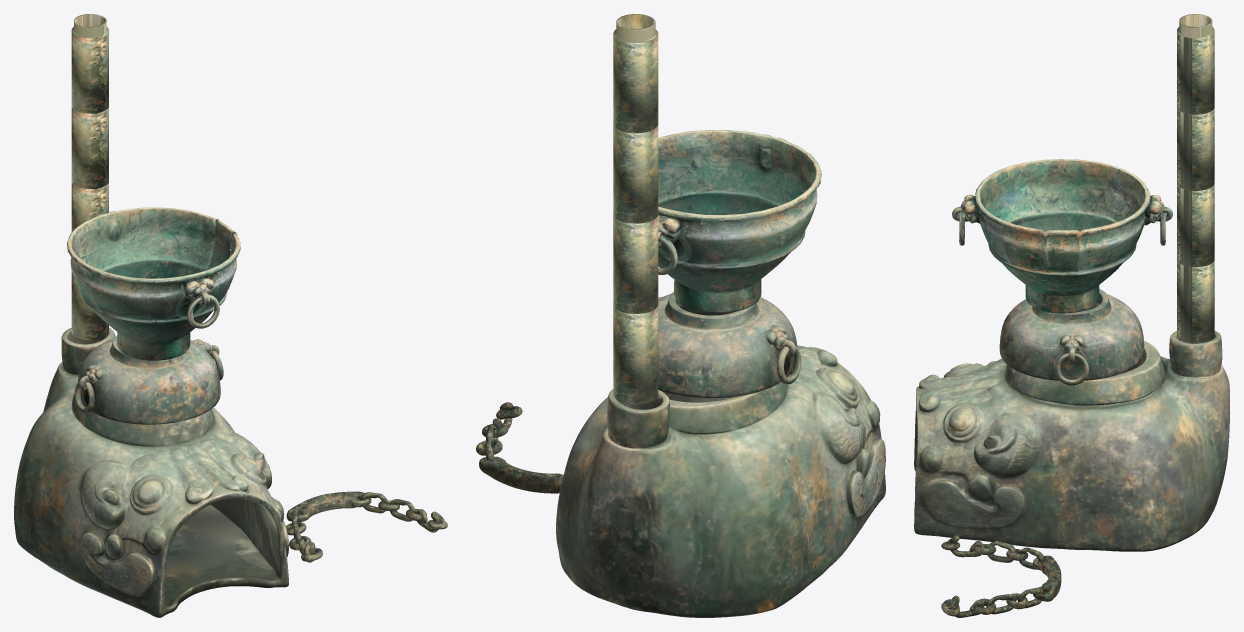
File: tiger-stove-desktop.glb
The picture shows the model from 3 angles, left to right: view 1: azimuth 30°, elevation 25°; view 2: azimuth 150°, elevation 25°; view 3: azimuth 270°, elevation 25°; orthographic projection. The views are drawn at different scales.
Visible parts, largest first — view 1: P07_zeng, P01_body_shell, P05_relief_surface, P06_fu, P02_cooking_rim, P04_door_frame, P11_chimney_4, P12_carrying_chain, P10_chimney_3, P08_chimney_1, P09_chimney_2, P03_chimney_socket; view 2: P01_body_shell, P07_zeng, P06_fu, P05_relief_surface, P02_cooking_rim, P11_chimney_4, P08_chimney_1, P09_chimney_2, P10_chimney_3, P03_chimney_socket, P12_carrying_chain, P04_door_frame; view 3: P01_body_shell, P07_zeng, P05_relief_surface, P06_fu, P02_cooking_rim, P11_chimney_4, P12_carrying_chain, P04_door_frame, P10_chimney_3, P08_chimney_1, P09_chimney_2, P03_chimney_socket.
Boxes of the visible parts, bbox=[...] form: P07_zeng: bbox=[67, 207, 240, 360]; P01_body_shell: bbox=[14, 366, 274, 610]; P05_relief_surface: bbox=[80, 431, 285, 614]; P06_fu: bbox=[74, 336, 223, 424]; P02_cooking_rim: bbox=[51, 392, 222, 463]; P04_door_frame: bbox=[138, 476, 288, 617]; P11_chimney_4: bbox=[71, 14, 108, 113]; P12_carrying_chain: bbox=[286, 491, 447, 562]; P10_chimney_3: bbox=[71, 107, 108, 188]; P08_chimney_1: bbox=[71, 271, 108, 339]; P09_chimney_2: bbox=[71, 182, 108, 247]; P03_chimney_socket: bbox=[59, 327, 115, 381]; P01_body_shell: bbox=[556, 390, 878, 617]; P07_zeng: bbox=[658, 130, 821, 313]; P06_fu: bbox=[658, 292, 801, 397]; P05_relief_surface: bbox=[667, 348, 883, 543]; P02_cooking_rim: bbox=[599, 374, 807, 453]; P11_chimney_4: bbox=[613, 14, 658, 133]; P08_chimney_1: bbox=[613, 305, 658, 404]; P09_chimney_2: bbox=[613, 214, 658, 313]; P10_chimney_3: bbox=[613, 124, 658, 223]; P03_chimney_socket: bbox=[602, 389, 677, 451]; P12_carrying_chain: bbox=[476, 402, 563, 493]; P04_door_frame: bbox=[725, 345, 885, 503]; P01_body_shell: bbox=[936, 356, 1229, 551]; P07_zeng: bbox=[952, 159, 1172, 313]; P05_relief_surface: bbox=[914, 358, 1023, 541]; P06_fu: bbox=[999, 289, 1144, 385]; P02_cooking_rim: bbox=[993, 341, 1162, 416]; P11_chimney_4: bbox=[1177, 14, 1214, 114]; P12_carrying_chain: bbox=[941, 535, 1061, 617]; P04_door_frame: bbox=[914, 378, 941, 536]; P10_chimney_3: bbox=[1177, 108, 1214, 190]; P08_chimney_1: bbox=[1177, 260, 1214, 343]; P09_chimney_2: bbox=[1177, 184, 1214, 266]; P03_chimney_socket: bbox=[1164, 331, 1222, 383].
Bounding box in the file's own units: 0.7454 × 1.03 × 0.6017.
5 materials, 5 textured.
